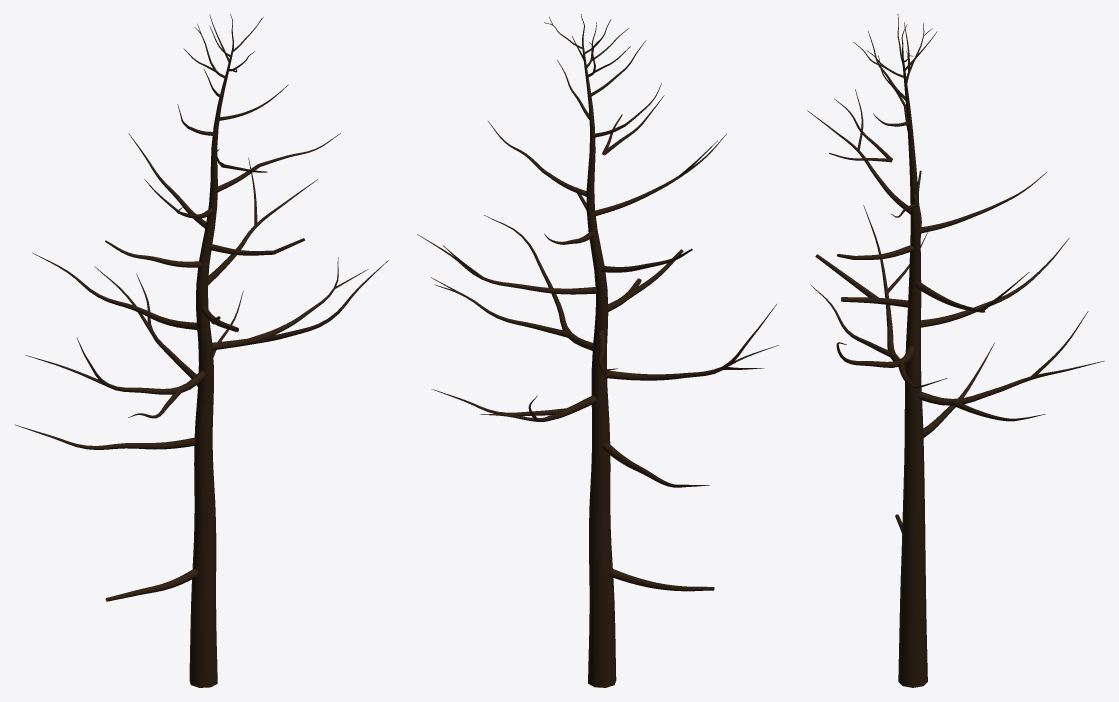
The model's file is tree1.fbx.
The picture shows the model from 3 angles, left to right: view 1: azimuth 30°, elevation 25°; view 2: azimuth 150°, elevation 25°; view 3: azimuth 270°, elevation 25°; orthographic projection.
Parts seen in each view (by area): view 1: tree; view 2: tree; view 3: tree.
Boxes of the visible parts, bbox=[...] form: tree: bbox=[14, 14, 388, 687]; tree: bbox=[417, 14, 778, 687]; tree: bbox=[807, 14, 1104, 687].
Size of the model in its own units: 263 by 492 by 198.
